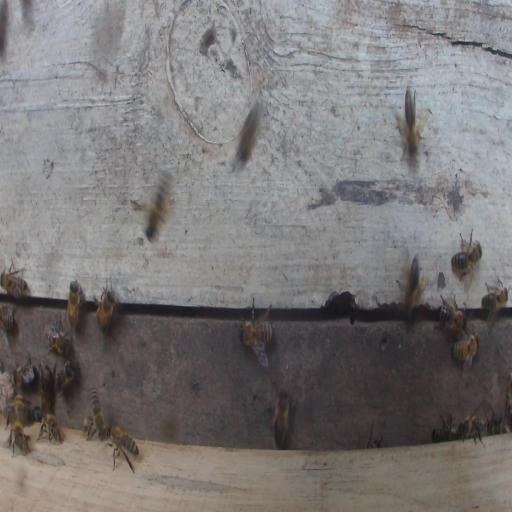nonpollenbee: (105, 424, 140, 474), (452, 227, 482, 282), (236, 105, 260, 167), (238, 315, 276, 354), (94, 279, 117, 332), (438, 294, 467, 334), (483, 278, 509, 320), (86, 388, 107, 440), (44, 316, 71, 356), (273, 389, 290, 449), (451, 333, 479, 366), (0, 266, 29, 297), (404, 89, 417, 157), (13, 352, 35, 389), (432, 413, 460, 442), (66, 279, 81, 331), (56, 358, 76, 395), (37, 412, 59, 441), (40, 365, 54, 409), (460, 415, 486, 438), (0, 302, 18, 332), (3, 403, 33, 421), (8, 421, 26, 449), (488, 414, 505, 434), (14, 393, 23, 418)
pollenbee: (405, 256, 423, 318)
